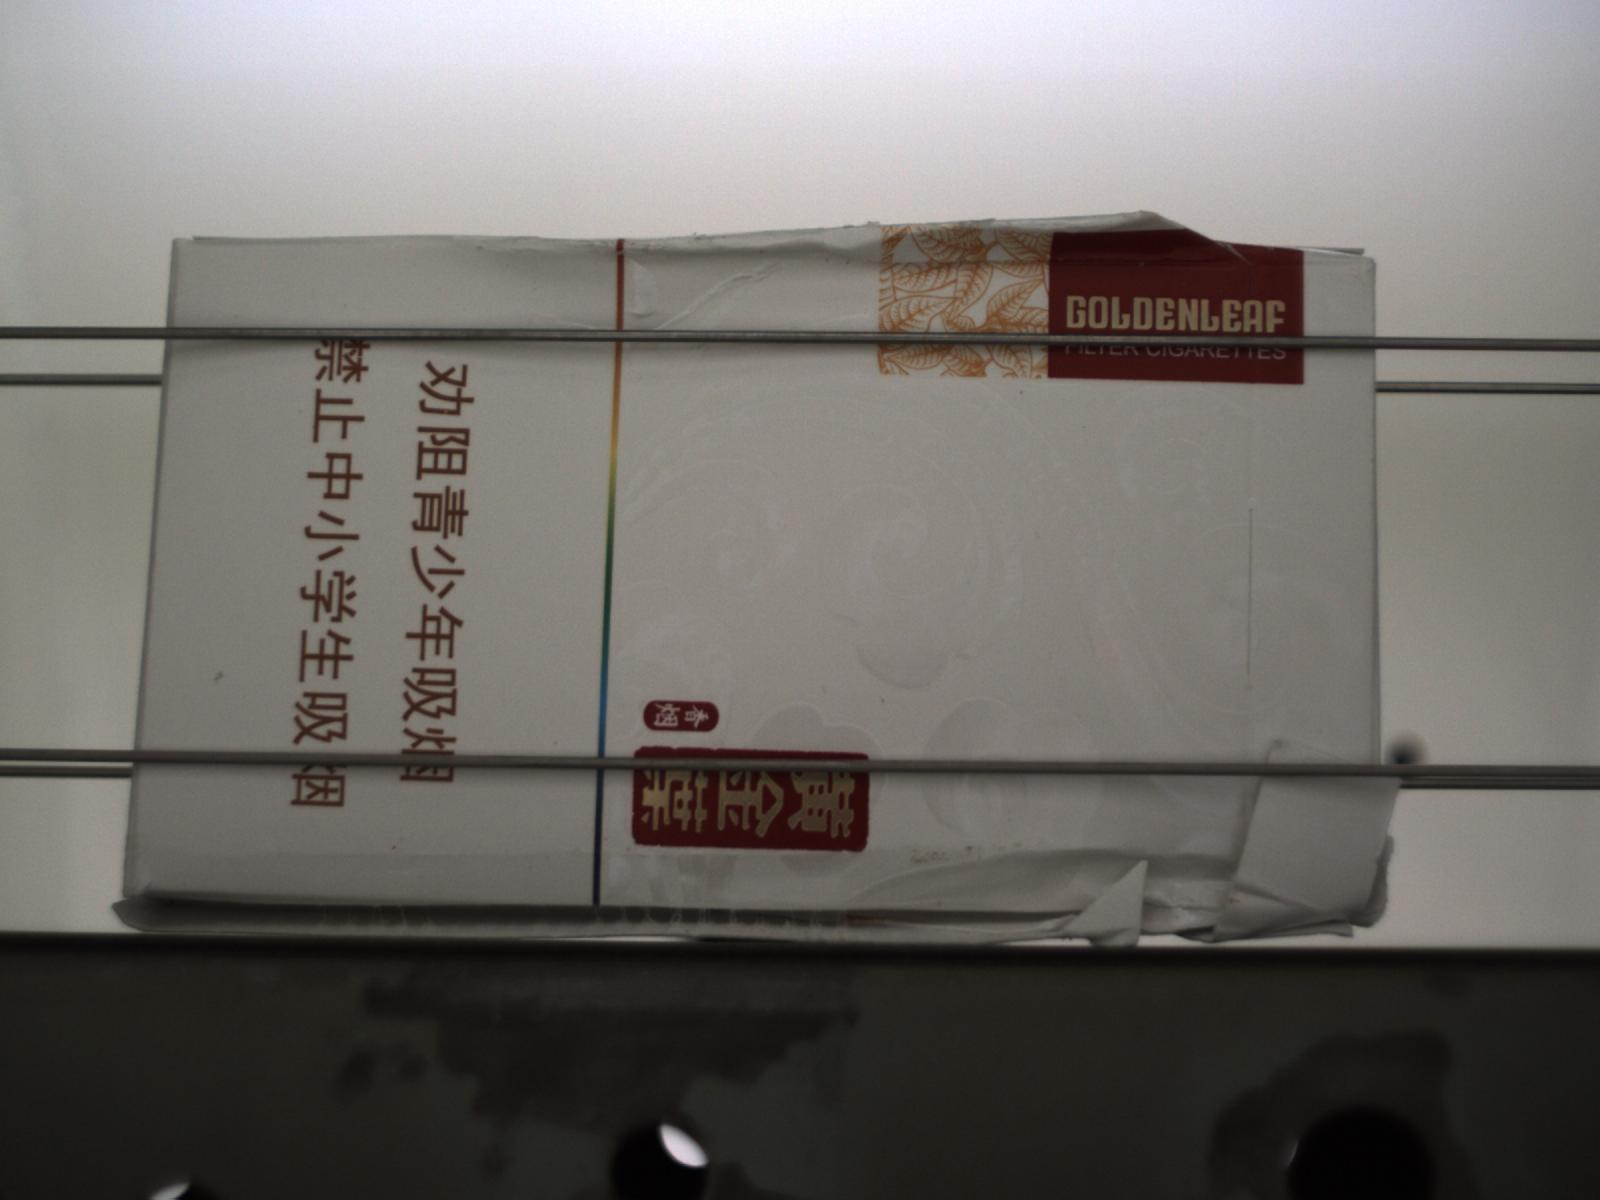boxDamage_back_heavy: (111, 839, 1395, 938)
boxDamage_slight: (477, 209, 1256, 267)
dirtySpot: (213, 671, 227, 684), (391, 839, 402, 851), (878, 697, 887, 706), (1019, 389, 1027, 398)
frame: (1225, 753, 1406, 926)
